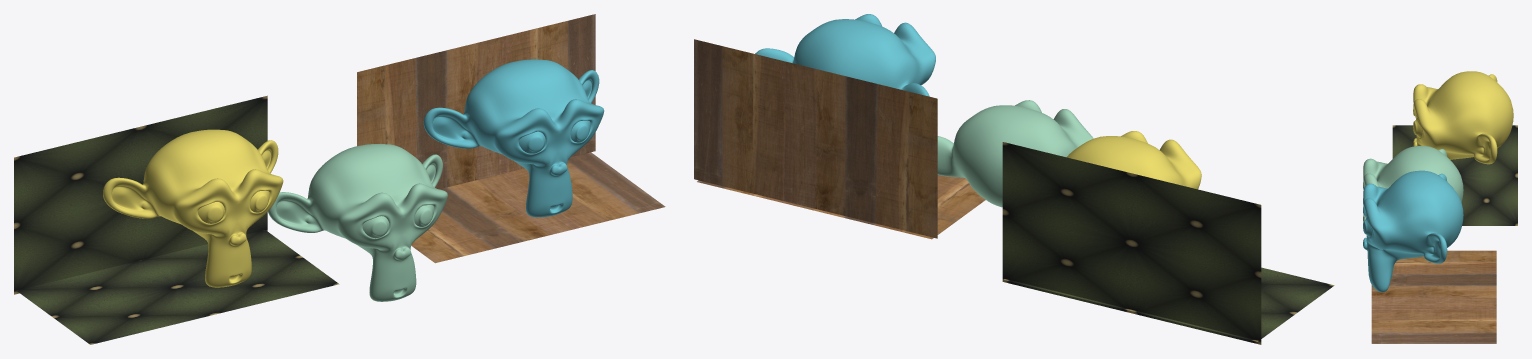
Rendered from demo.dae.
The picture shows the model from 3 angles, left to right: view 1: azimuth 30°, elevation 25°; view 2: azimuth 150°, elevation 25°; view 3: azimuth 270°, elevation 25°; orthographic projection. The views are drawn at different scales.
Visible parts, largest first — view 1: Plane_002, Plane_001, Plane, Suzanne_001, Suzanne, Suzanne_002, Plane_003; view 2: Plane_002, Plane_001, Suzanne_002, Suzanne_001, Suzanne, Plane, Plane_003; view 3: Plane_003, Suzanne_001, Suzanne, Plane, Suzanne_002.
Boxes of the visible parts, box(x1,y1,x2,y2) form: Plane_002: box(14, 95, 267, 294); Plane_001: box(357, 14, 595, 189); Plane: box(16, 230, 339, 344); Suzanne_001: box(423, 59, 604, 217); Suzanne: box(103, 129, 283, 287); Suzanne_002: box(268, 143, 447, 301); Plane_003: box(411, 152, 665, 263); Plane_002: box(1002, 142, 1261, 344); Plane_001: box(694, 39, 937, 238); Suzanne_002: box(937, 100, 1093, 207); Suzanne_001: box(755, 14, 935, 96); Suzanne: box(1067, 131, 1201, 189); Plane: box(1003, 267, 1334, 341); Plane_003: box(697, 175, 985, 239); Plane_003: box(1371, 250, 1496, 343); Suzanne_001: box(1363, 170, 1463, 292); Suzanne: box(1413, 71, 1513, 164); Plane: box(1392, 125, 1517, 225); Suzanne_002: box(1363, 146, 1463, 221).
Bounding box in the file's own units: 8.67 × 2.48 × 2.59.
Materials: 5 (2 with a texture image).
